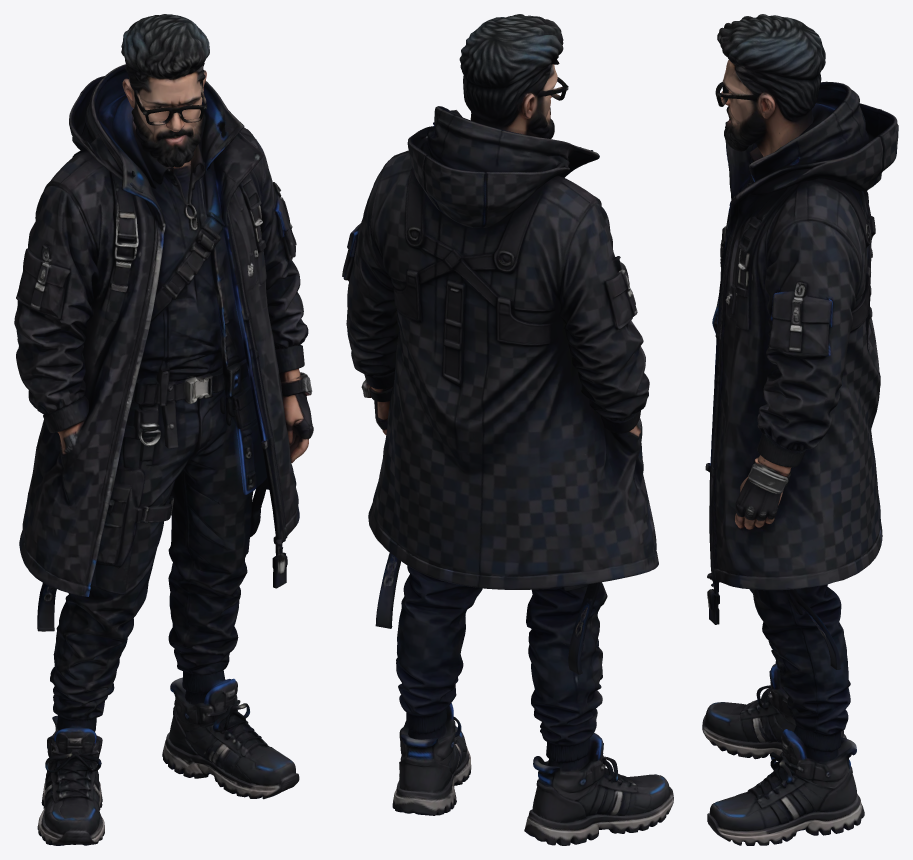
The picture shows the model from 3 angles, left to right: view 1: azimuth 30°, elevation 25°; view 2: azimuth 150°, elevation 25°; view 3: azimuth 270°, elevation 25°; orthographic projection.
Visible parts, largest first — view 1: world; view 2: world; view 3: world.
Part boxes in pixels (left/top/right/bottom): world: left=14, top=14, right=313, bottom=845; world: left=342, top=14, right=673, bottom=845; world: left=702, top=14, right=898, bottom=845.
Size of the model in its own units: 0.3814 by 0.9999 by 0.2298.
Materials: 1 (1 with a texture image).
